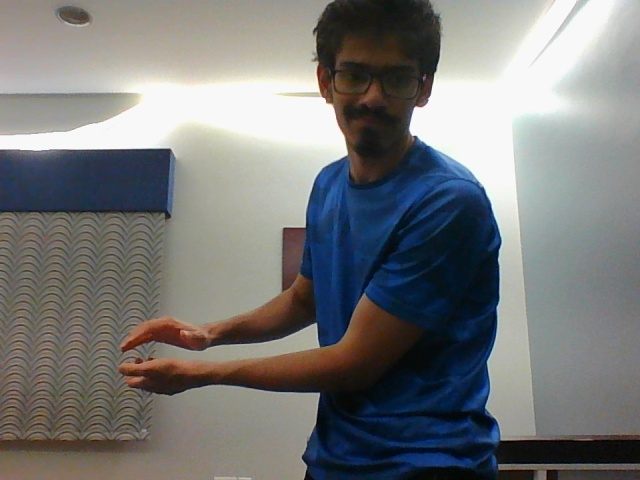charge: (116, 307, 240, 400)
